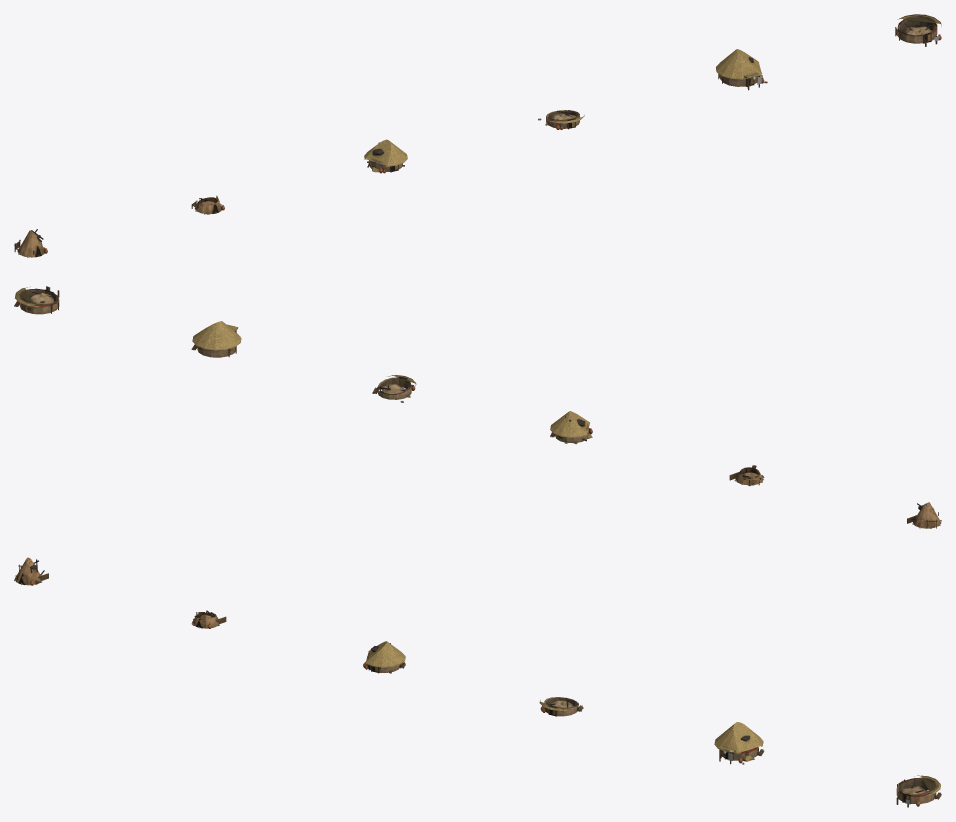
The model's file is stone-houses-damage.glb.
The picture shows the model from 3 angles, top to bottom: view 1: azimuth 30°, elevation 25°; view 2: azimuth 150°, elevation 25°; view 3: azimuth 330°, elevation 25°; orthographic projection.
Parts seen in each view (by area): view 1: LOD0.004, LOD0.005, LOD0.002, LOD0, LOD0.003; view 2: LOD0.004, LOD0.005, LOD0.002, LOD0.003, LOD0; view 3: LOD0.004, LOD0.005, LOD0.002, LOD0.003, LOD0.
Part boxes in pixels (box(x1,y1,x2,y2)): LOD0.004: box(716, 49, 767, 90); LOD0.005: box(895, 14, 941, 46); LOD0.002: box(364, 139, 407, 173); LOD0: box(14, 229, 47, 257); LOD0.003: box(538, 110, 584, 129); LOD0.004: box(191, 321, 241, 357); LOD0.005: box(14, 286, 59, 314); LOD0.002: box(550, 411, 592, 444); LOD0.003: box(372, 375, 416, 402); LOD0: box(907, 502, 941, 528); LOD0.004: box(714, 722, 764, 764); LOD0.005: box(896, 775, 941, 807); LOD0.002: box(363, 641, 405, 673); LOD0.003: box(539, 697, 583, 716); LOD0: box(14, 557, 48, 585).
Size of what is drawn, in the model's own units: 15.6 by 0.4696 by 0.7894.
2 materials, 2 textured.
